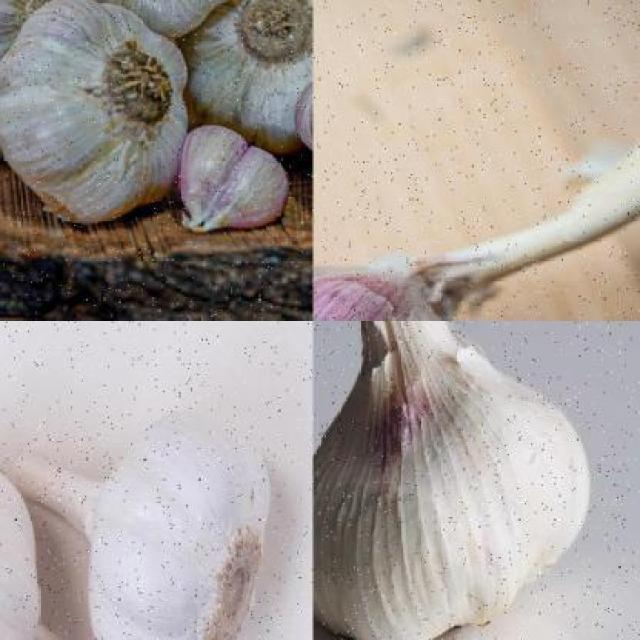garlic: (313, 320, 592, 638), (10, 403, 273, 640), (0, 0, 192, 221), (160, 0, 312, 146), (0, 442, 112, 639), (182, 124, 286, 241), (0, 0, 75, 78)
